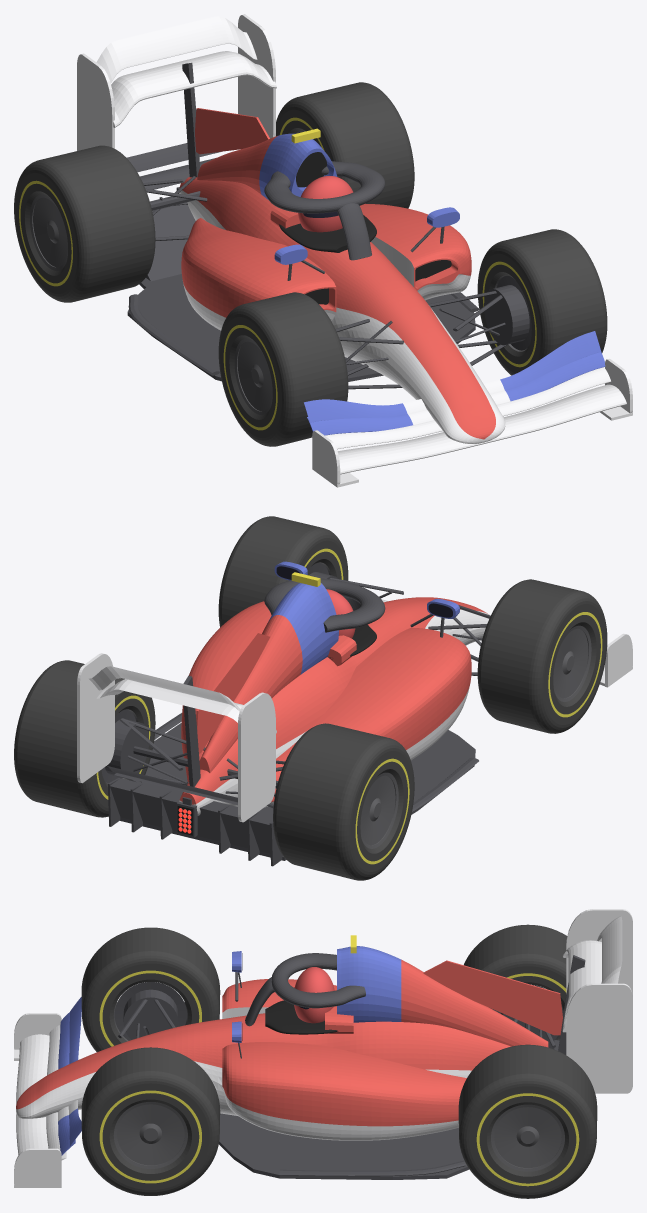
Rendered from race_car.glb.
The picture shows the model from 3 angles, top to bottom: view 1: azimuth 30°, elevation 25°; view 2: azimuth 150°, elevation 25°; view 3: azimuth 270°, elevation 25°; orthographic projection. The views are drawn at different scales.
Parts seen in each view (by area): view 1: wheel_RR_tyre, chassis_top, wheel_FR_tyre, wheel_FL_tyre, wheel_RL_tyre, sidepod_top_R, chassis_side, floor, fw_element1, rw_mainplane, rw_flap, sidepod_top_L (+24 smaller); view 2: wheel_RR_tyre, wheel_FR_tyre, sidepod_top_R, wheel_RL_tyre, chassis_top, wheel_FL_tyre, airbox_spine, diffuser, rw_endplate_R, floor, rw_endplate_L, sidepod_top_L (+17 smaller); view 3: sidepod_top_L, wheel_RL_tyre, wheel_FL_tyre, chassis_top, floor, wheel_FR_tyre, rw_endplate_L, airbox_spine, wheel_RR_tyre, shark_fin, airbox_head, wheel_RL_cover (+27 smaller).
Boxes of the visible parts, bbox=[...] form: wheel_RR_tyre: bbox=[14, 145, 155, 302]; chassis_top: bbox=[179, 177, 495, 439]; wheel_FR_tyre: bbox=[218, 292, 348, 446]; wheel_FL_tyre: bbox=[477, 229, 607, 375]; wheel_RL_tyre: bbox=[276, 82, 414, 208]; sidepod_top_R: bbox=[181, 218, 335, 317]; chassis_side: bbox=[179, 190, 505, 443]; floor: bbox=[127, 274, 475, 381]; fw_element1: bbox=[337, 384, 626, 474]; rw_mainplane: bbox=[111, 51, 276, 127]; rw_flap: bbox=[96, 16, 257, 82]; sidepod_top_L: bbox=[360, 203, 471, 275]; wheel_RR_tyre: bbox=[273, 723, 414, 880]; wheel_FR_tyre: bbox=[477, 579, 607, 733]; sidepod_top_R: bbox=[271, 628, 471, 802]; wheel_RL_tyre: bbox=[14, 660, 155, 817]; chassis_top: bbox=[179, 597, 487, 804]; wheel_FL_tyre: bbox=[218, 516, 348, 627]; airbox_spine: bbox=[199, 615, 302, 772]; diffuser: bbox=[109, 778, 272, 853]; rw_endplate_R: bbox=[238, 692, 275, 822]; floor: bbox=[120, 723, 475, 860]; rw_endplate_L: bbox=[77, 653, 114, 783]; sidepod_top_L: bbox=[181, 601, 271, 781]; sidepod_top_L: bbox=[222, 1042, 466, 1126]; wheel_RL_tyre: bbox=[458, 1044, 597, 1198]; wheel_FL_tyre: bbox=[81, 1047, 220, 1195]; chassis_top: bbox=[16, 1013, 510, 1109]; floor: bbox=[219, 1113, 469, 1179]; wheel_FR_tyre: bbox=[81, 927, 220, 1051]; rw_endplate_L: bbox=[566, 983, 632, 1093]; airbox_spine: bbox=[401, 959, 548, 1047]; wheel_RR_tyre: bbox=[464, 924, 567, 1039]; shark_fin: bbox=[423, 960, 562, 1035]; airbox_head: bbox=[337, 946, 401, 1022]; wheel_RL_cover: bbox=[494, 1107, 561, 1167].
Size of the model in its own units: 2.29 by 1.26 by 3.84.
